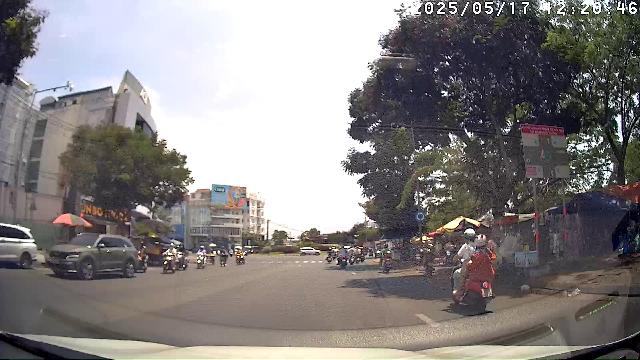303-noi-giao-nhau-chay-theo-vong-xuyen: (416, 211, 425, 221)
